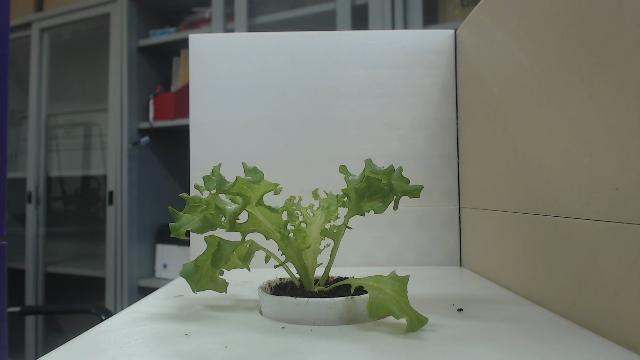Vegetative Stage: (167, 157, 429, 337)
